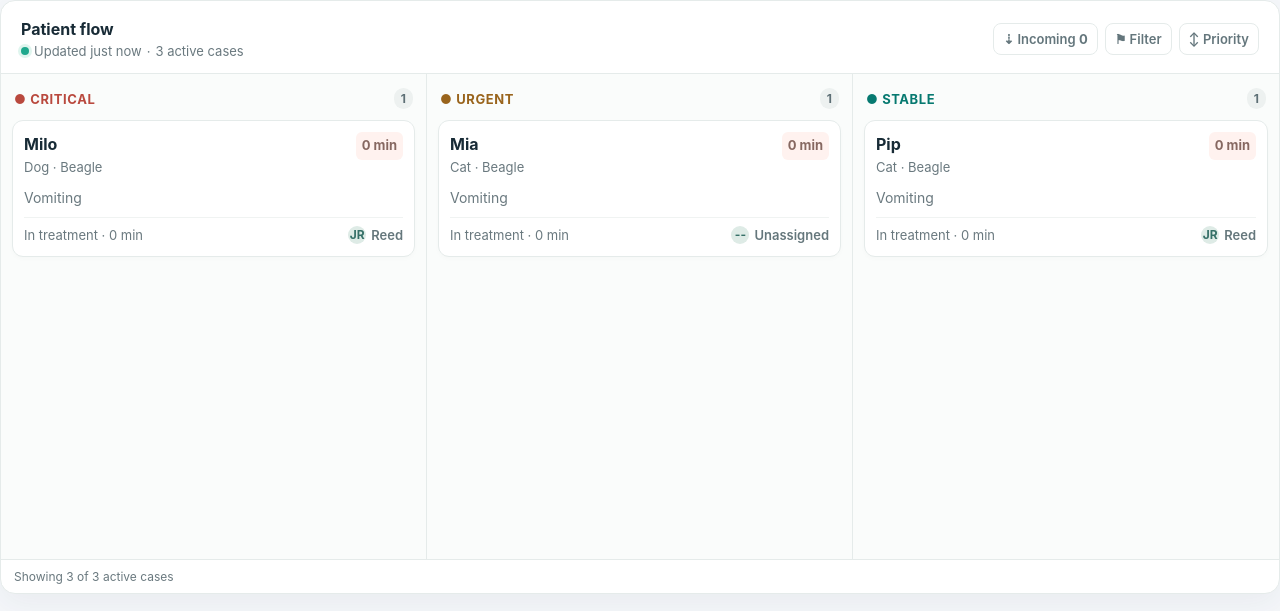
Test: PatientFlowBoard › with the Filter menu › leaves only the chosen clinician's cards, with lane counts and the foot to match
Click the button "⚑ Filter" at point(1138, 39), box [1105, 23, 1172, 55]
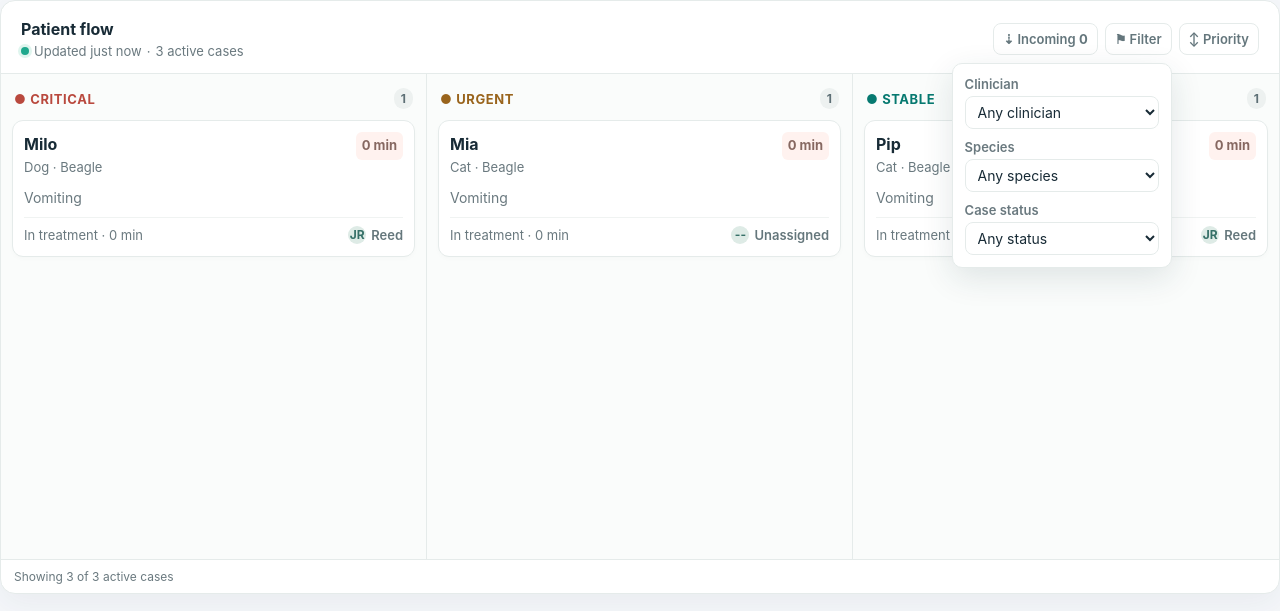
Select "Reed" in the dropdown labelled "Clinician" at point(1062, 112), box [965, 96, 1159, 129]
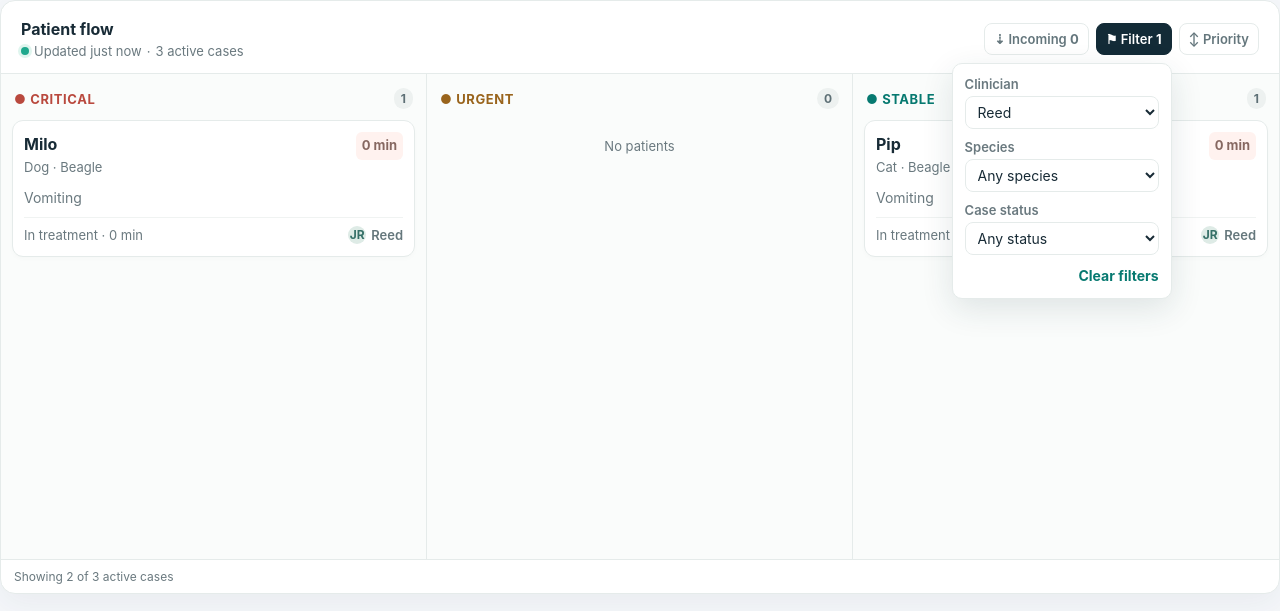
Now the text "0" in the row of "Urgent" is shown, box [824, 91, 832, 106]
Now the text "Showing 2 of 3 active cases" is shown, box [1, 559, 1279, 593]
